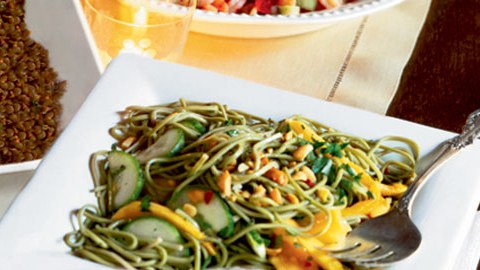Soba: (95, 101, 420, 267)
